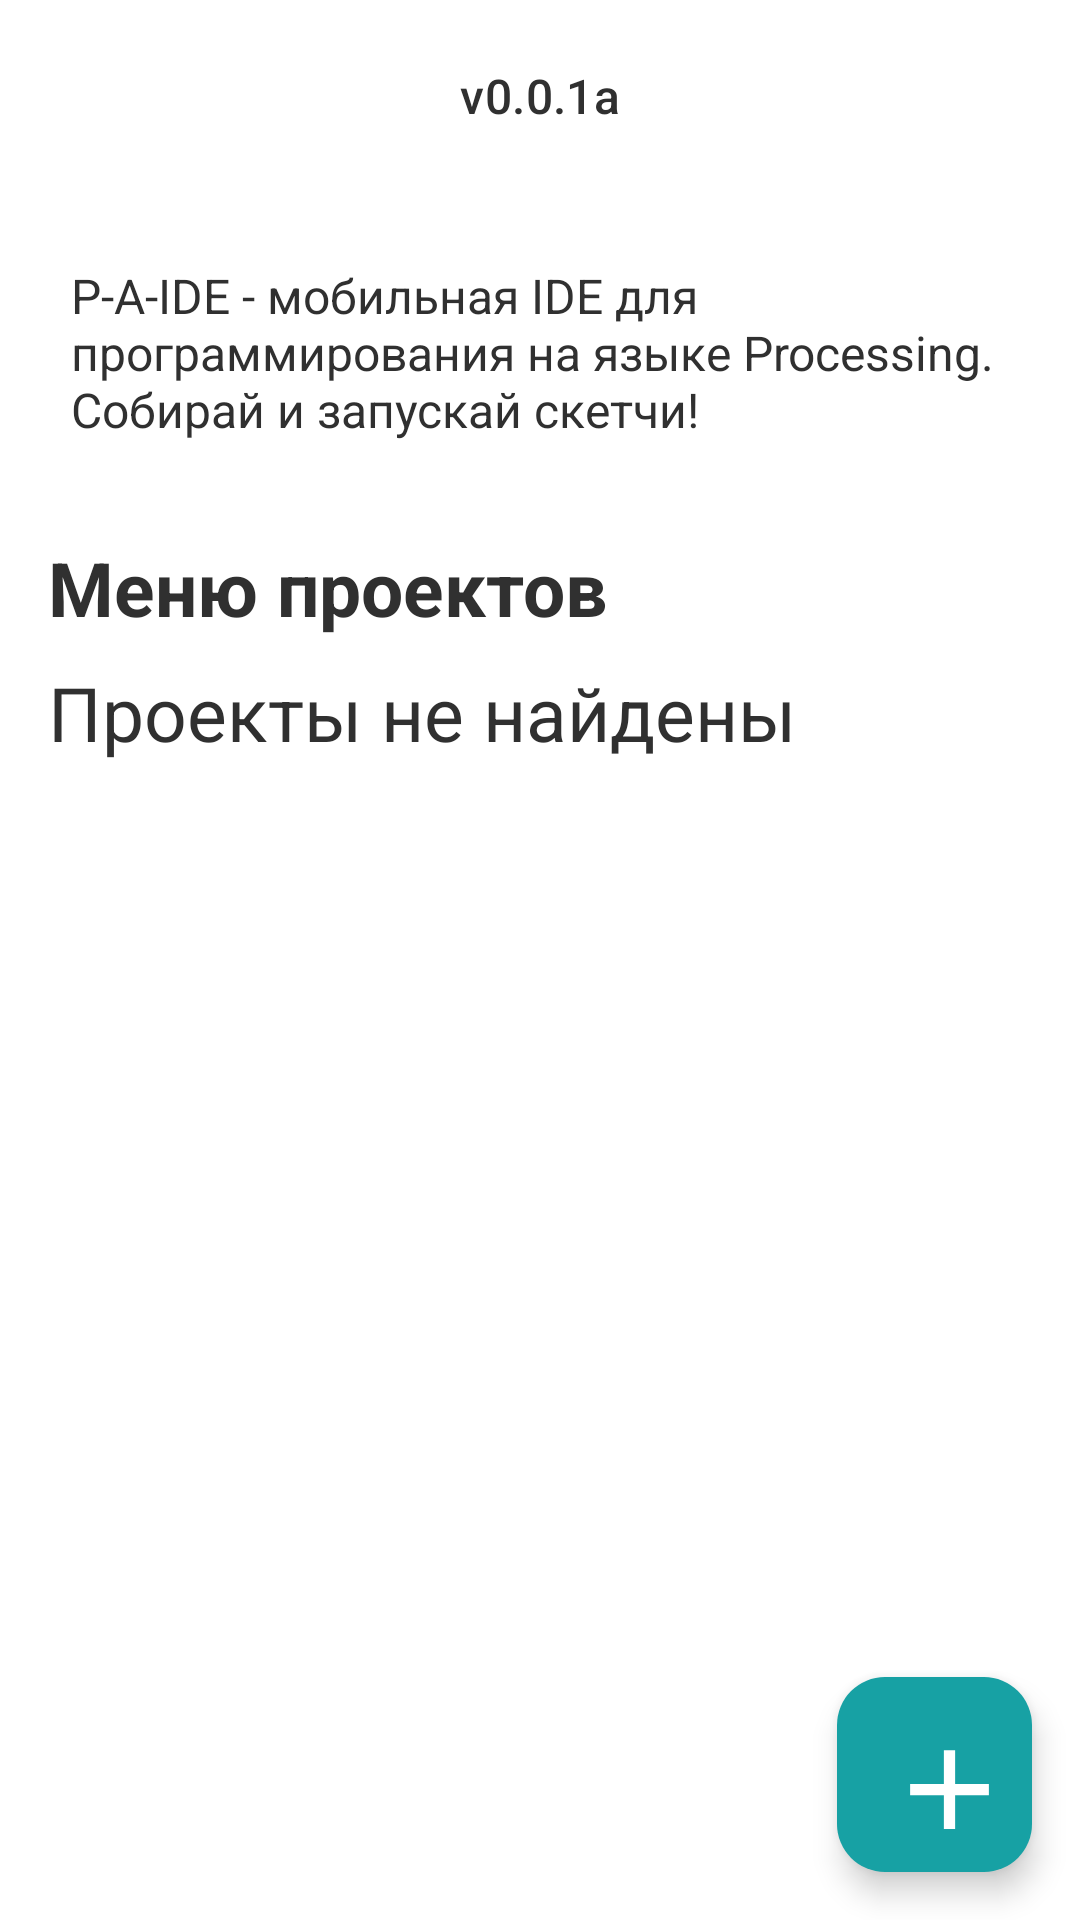

Where to tap for icons on this 1080*1920 app screen, as point (x, y):
plus: point (934, 1774)
